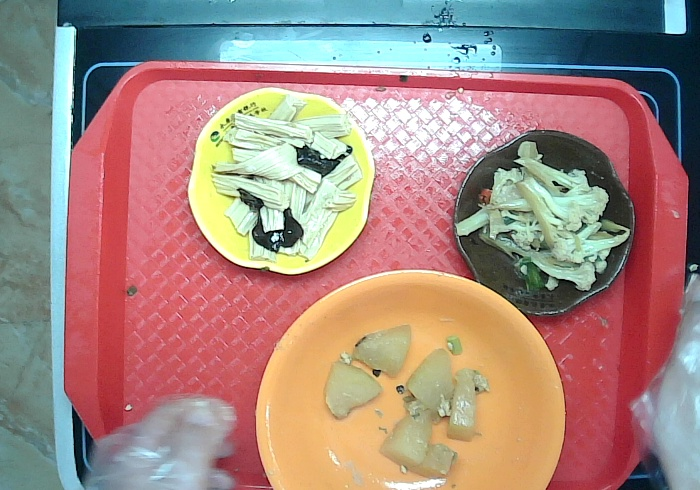YKMZ-Huang_Se_Ao_Bian_Wan: (182, 85, 380, 278)
YKMZ-Ju_Se_Tang_Wan: (250, 264, 568, 490)
YKMZ-Ka_Fei_Ao_Bian_Wan: (446, 126, 640, 322)
